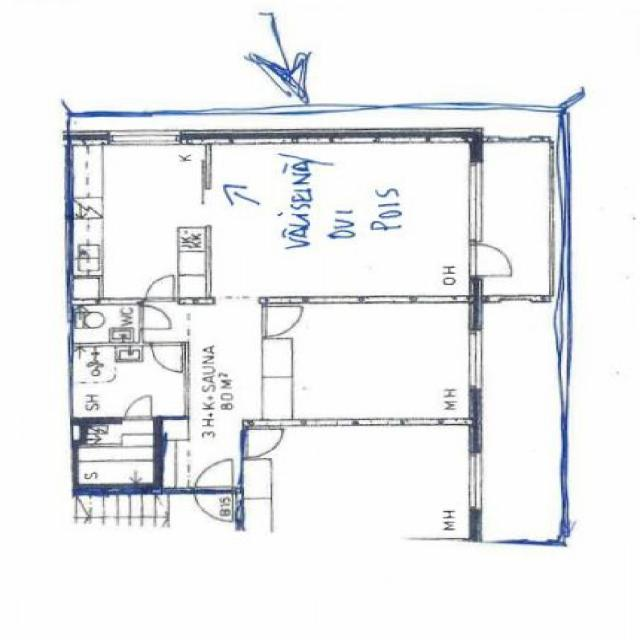door: (469, 245, 519, 276), (194, 488, 233, 526), (194, 456, 233, 494), (262, 306, 301, 334), (240, 430, 278, 458), (152, 342, 182, 371), (145, 275, 174, 302), (138, 306, 172, 328), (124, 395, 151, 420)
